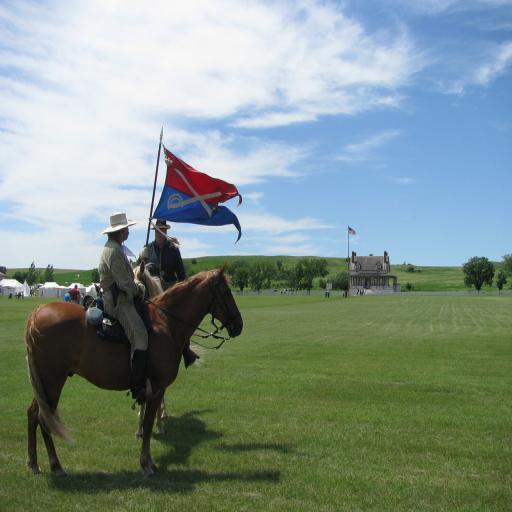horse: (24, 261, 244, 479), (133, 261, 207, 438), (129, 261, 166, 439)
